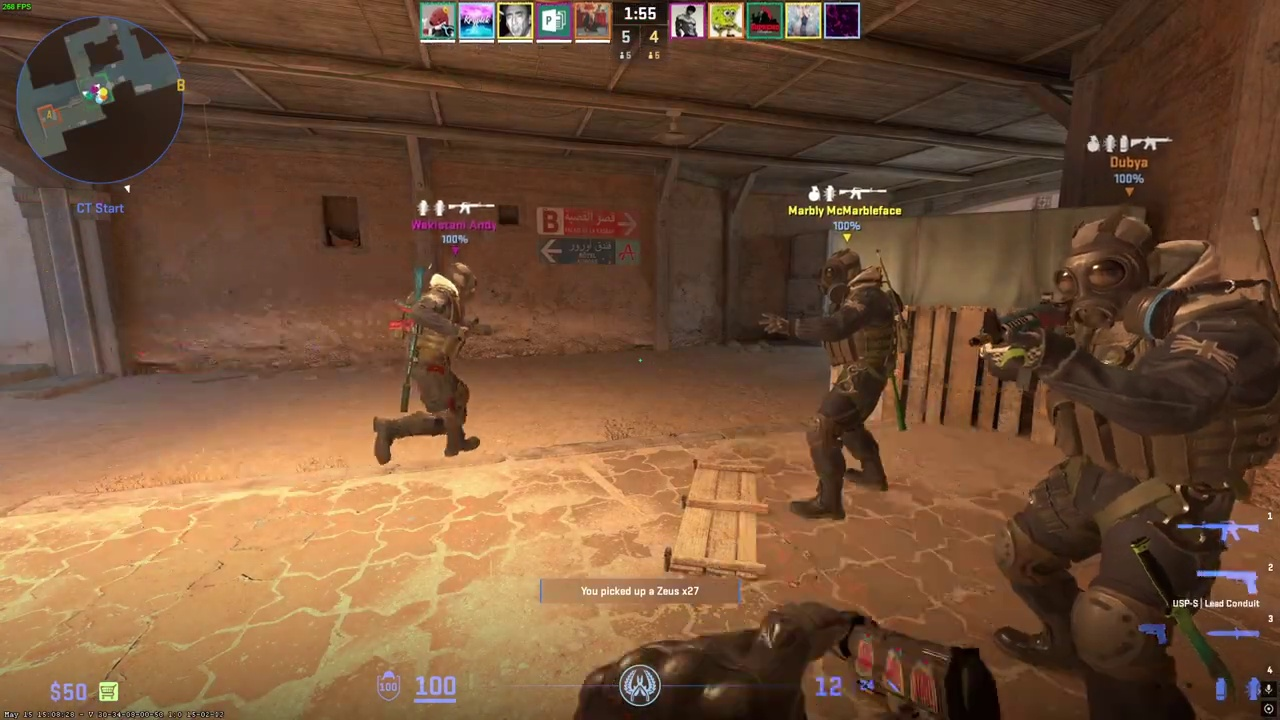CT: (979, 212, 1280, 720), (792, 248, 899, 520), (378, 262, 491, 466)
